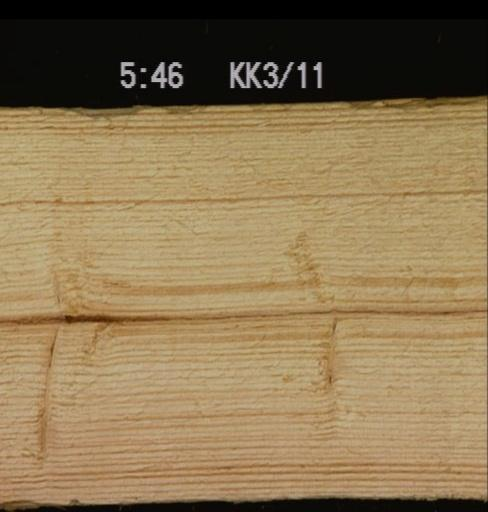split: (0, 307, 486, 326)
wave: (0, 104, 148, 115)
